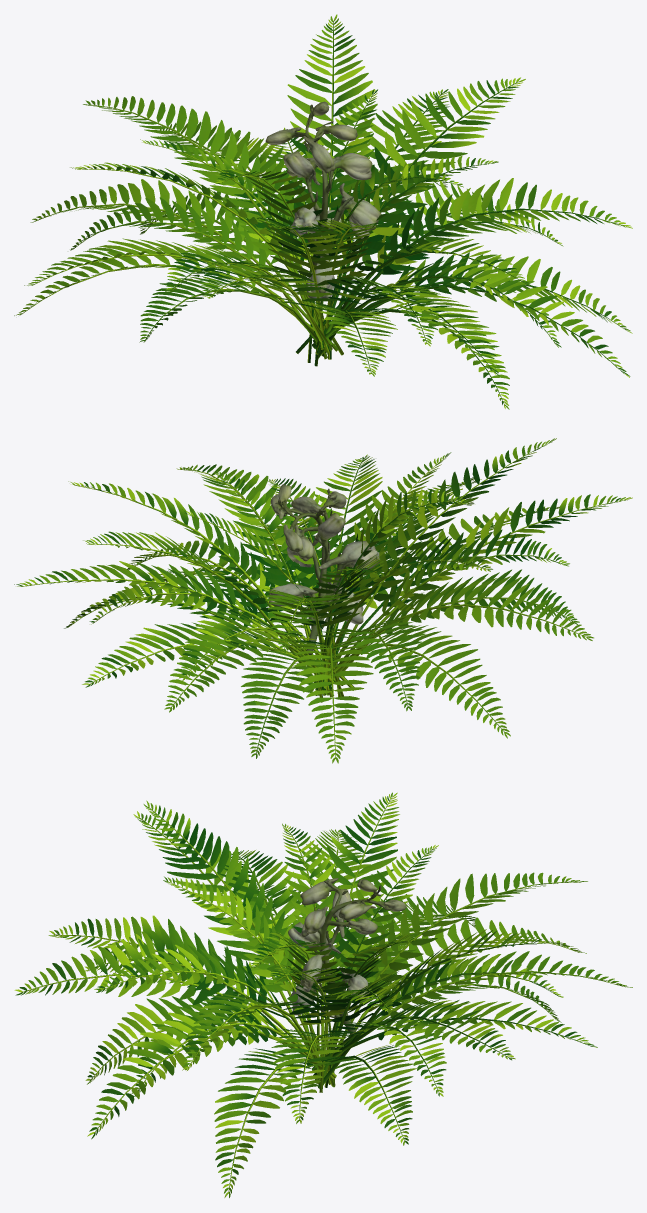
Rendered from eleboro.glb.
3 renders of one model, top to bottom at view 1: azimuth 30°, elevation 25°; view 2: azimuth 150°, elevation 25°; view 3: azimuth 270°, elevation 25°, orthographic. The views are drawn at different scales.
Parts seen in each view (by area): view 1: Cylinder, Flower Buds_mm; view 2: Cylinder, Flower Buds_mm; view 3: Cylinder, Flower Buds_mm.
Boxes of the visible parts, bbox=[...] form: Cylinder: bbox=[14, 14, 632, 409]; Flower Buds_mm: bbox=[265, 101, 381, 298]; Cylinder: bbox=[14, 438, 632, 763]; Flower Buds_mm: bbox=[269, 484, 379, 654]; Cylinder: bbox=[14, 792, 632, 1197]; Flower Buds_mm: bbox=[288, 878, 406, 1034].
Size of the model in its own units: 17.9 by 7.55 by 19.08.
Materials: 2 (2 with a texture image).
